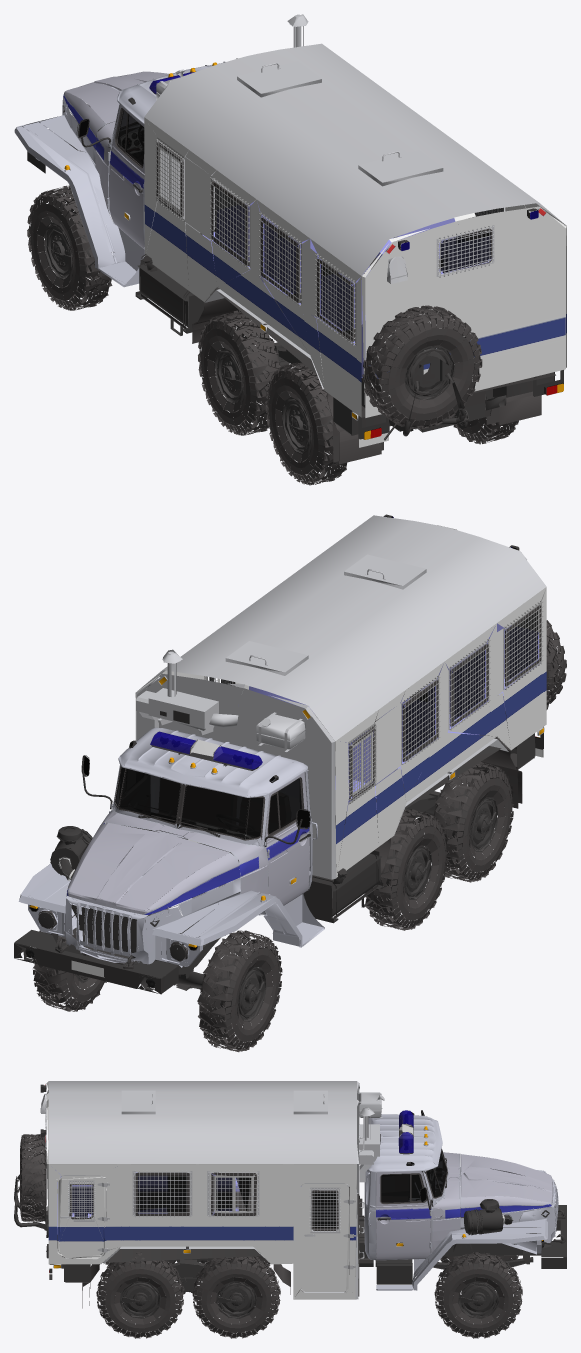
File: ural_police.glb
The picture shows the model from 3 angles, top to bottom: view 1: azimuth 30°, elevation 25°; view 2: azimuth 150°, elevation 25°; view 3: azimuth 270°, elevation 25°; orthographic projection. The views are drawn at different scales.
Visible parts, largest first — view 1: body, wheel_ML, wheel_FL, wheel_RL, door_FL, wheel_RR; view 2: body, wheel_FL, wheel_RL, wheel_ML, door_FL, wheel_FR, door_FR; view 3: body, wheel_FR, wheel_MR, door_FR, wheel_RR.
Part boxes in pixels (bbox=[...]): body: bbox=[14, 14, 566, 464]; wheel_ML: bbox=[198, 310, 281, 435]; wheel_FL: bbox=[27, 185, 112, 310]; wheel_RL: bbox=[265, 361, 346, 485]; door_FL: bbox=[107, 105, 144, 248]; wheel_RR: bbox=[453, 417, 518, 444]; body: bbox=[14, 514, 566, 1021]; wheel_FL: bbox=[197, 930, 282, 1052]; wheel_RL: bbox=[433, 762, 514, 882]; wheel_ML: bbox=[364, 809, 448, 930]; door_FL: bbox=[265, 772, 309, 905]; wheel_FR: bbox=[33, 906, 106, 1011]; door_FR: bbox=[109, 768, 149, 859]; body: bbox=[14, 1081, 566, 1318]; wheel_FR: bbox=[434, 1252, 522, 1338]; wheel_MR: bbox=[192, 1256, 280, 1338]; door_FR: bbox=[376, 1171, 431, 1260]; wheel_RR: bbox=[96, 1252, 184, 1338].
Bounding box in the file's own units: 2.78 × 3.5 × 7.95.
18 materials, 5 textured.
